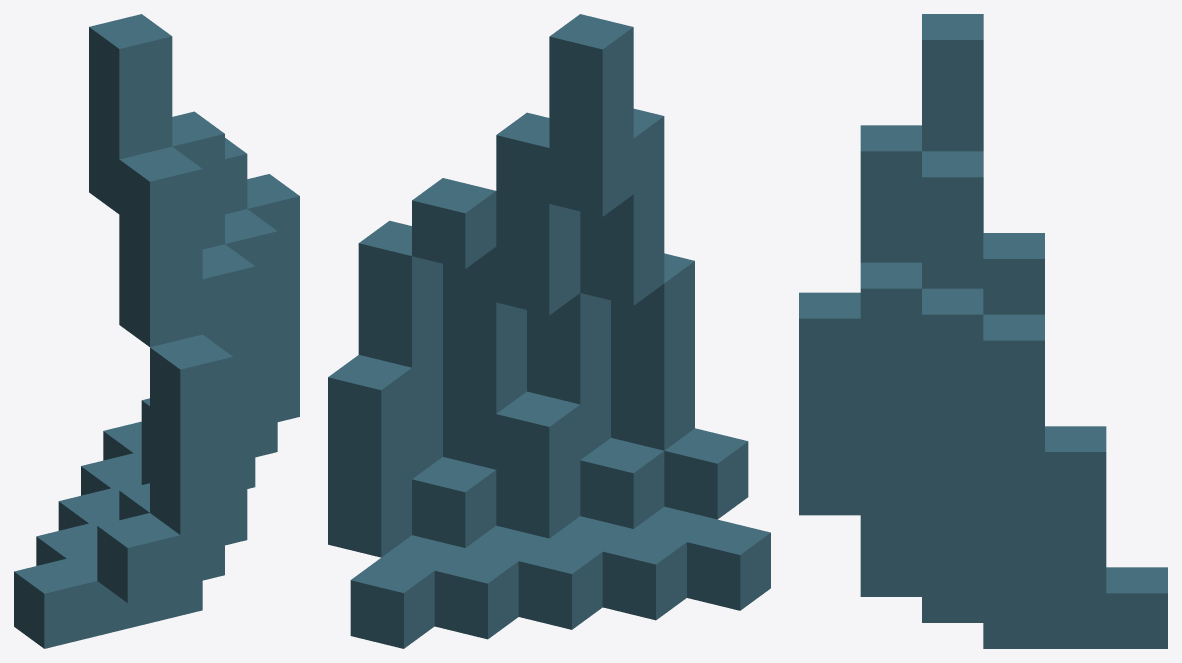
Rendered from vase-3-1.obj.
The picture shows the model from 3 angles, left to right: view 1: azimuth 30°, elevation 25°; view 2: azimuth 150°, elevation 25°; view 3: azimuth 270°, elevation 25°; orthographic projection.
Visible parts, largest first — view 1: 1; view 2: 1; view 3: 1.
Part boxes in pixels (x1,y1,x2,y2): 1: (14,14,299,648); 1: (328,14,770,648); 1: (799,14,1167,648).
Size of the model in its own units: 0.6 by 1 by 0.6.
1 material, 1 textured.
